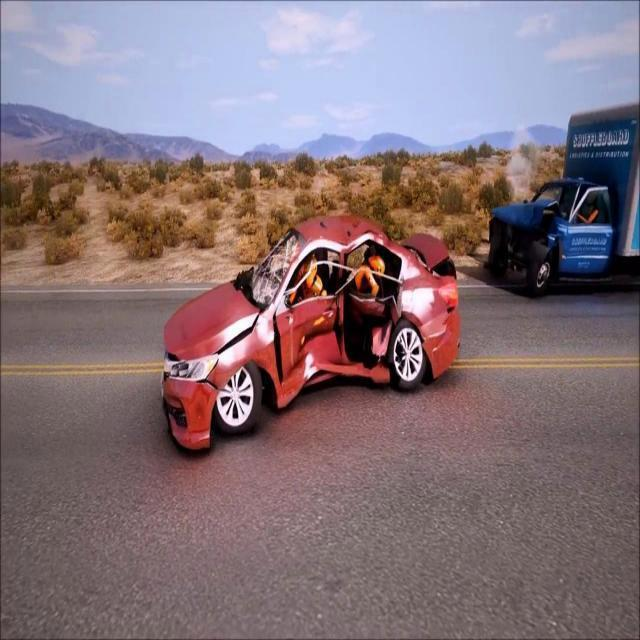accident: (155, 206, 466, 459)
